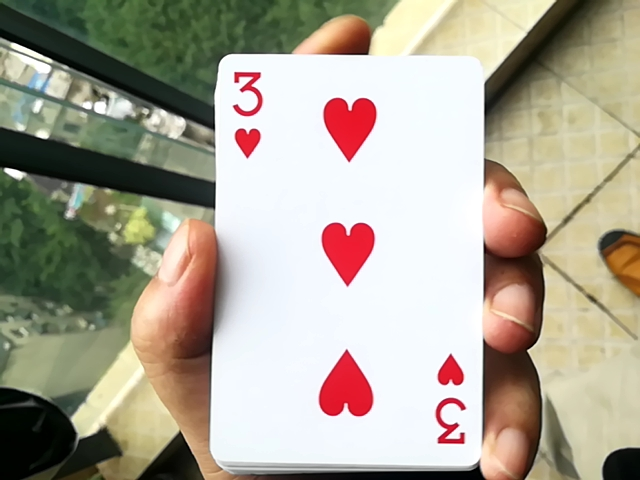hx 3: (205, 36, 488, 474)
